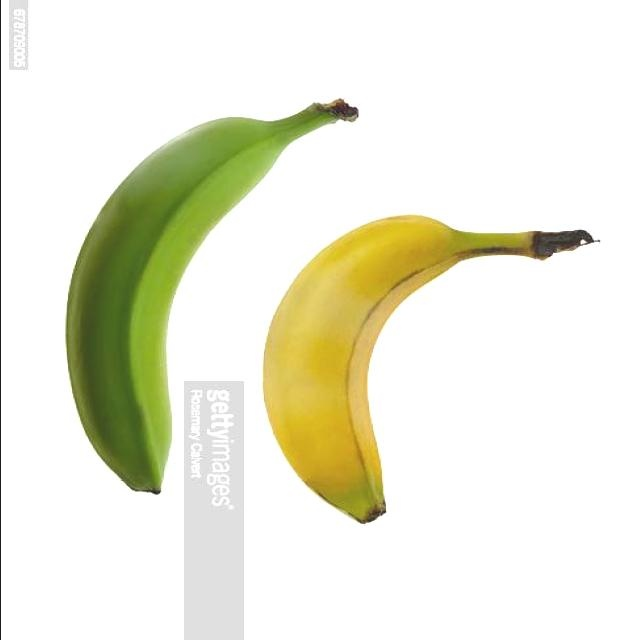agrume: (61, 97, 359, 495), (263, 211, 601, 521)
